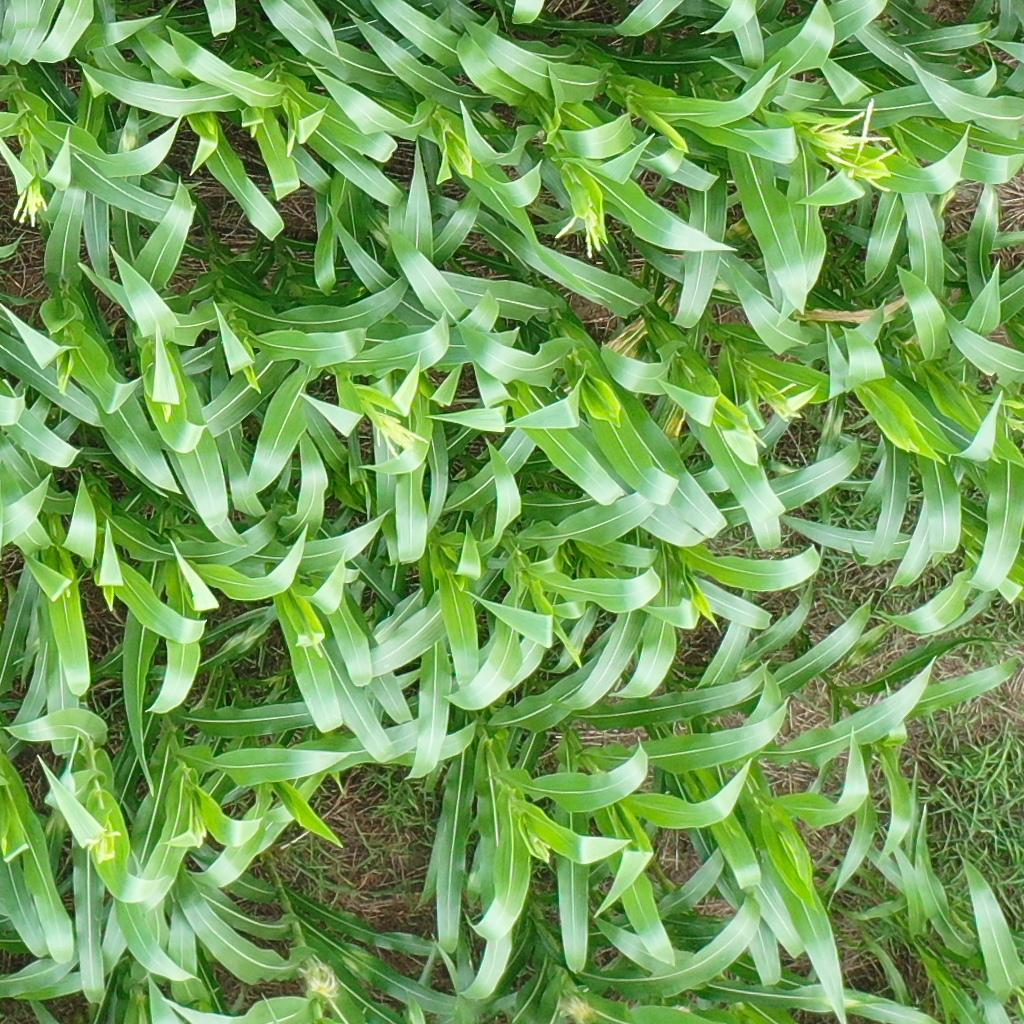Tassel: (826, 95, 900, 194), (801, 110, 890, 154), (554, 204, 611, 268), (370, 414, 431, 465), (757, 377, 803, 426), (9, 179, 50, 231), (77, 825, 125, 863)
